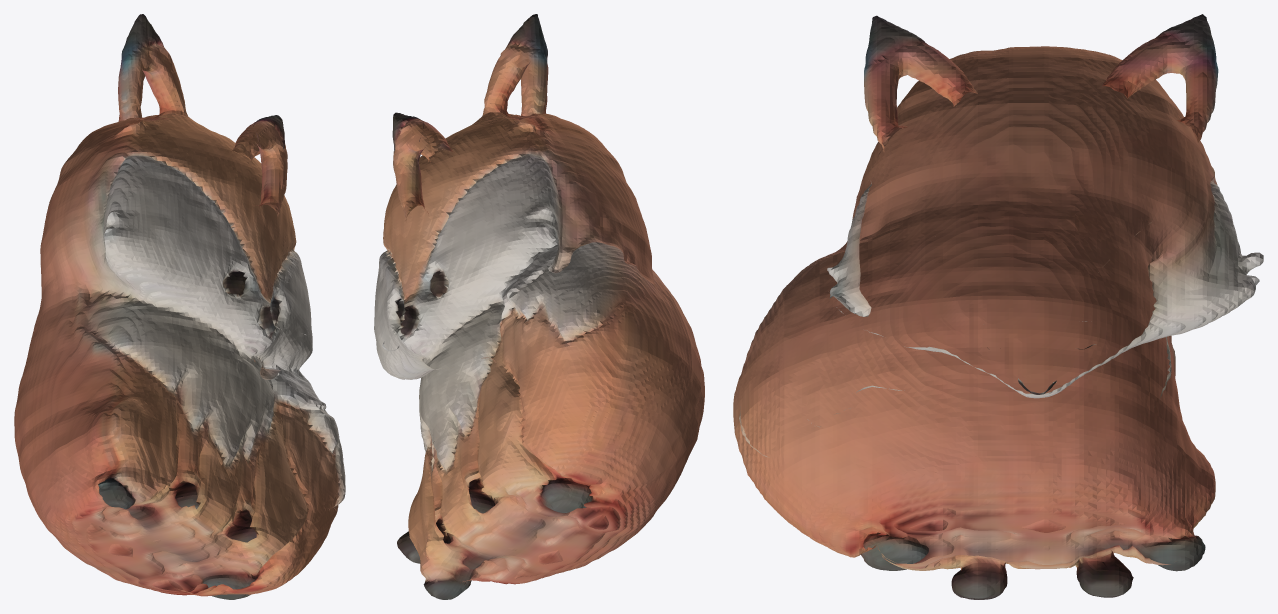
File: fox.glb
3 renders of one model, left to right at view 1: azimuth 30°, elevation 25°; view 2: azimuth 150°, elevation 25°; view 3: azimuth 270°, elevation 25°, orthographic. The views are drawn at different scales.
Parts seen in each view (by area): view 1: world; view 2: world; view 3: world.
Part boxes in pixels (box(x1,y1,x2,y2)): world: box(14, 14, 345, 599); world: box(374, 14, 704, 599); world: box(733, 14, 1263, 599).
Bounding box in the file's own units: 0.5674 × 0.9837 × 0.8221.
